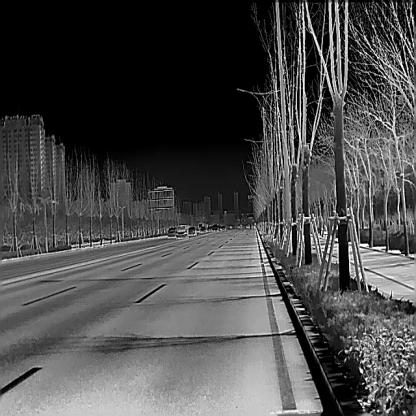car: (176, 225, 186, 238), (167, 227, 176, 238), (187, 226, 196, 235), (212, 224, 218, 232), (199, 226, 205, 232), (220, 225, 226, 230)
